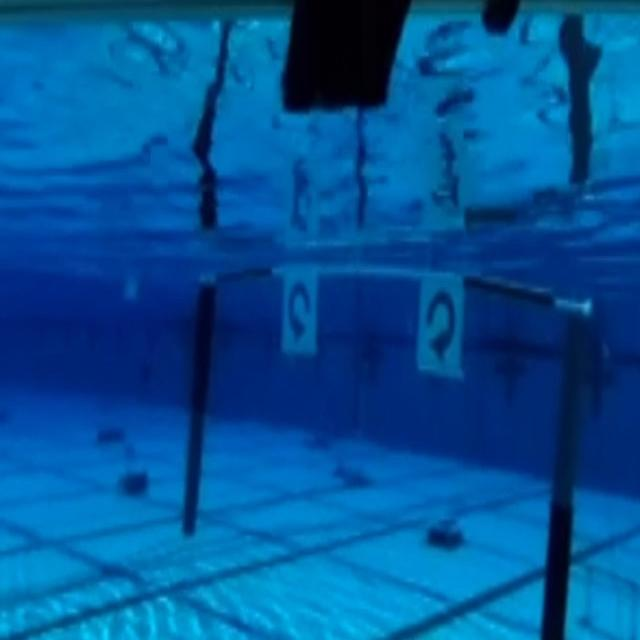Gate: (168, 249, 595, 640)
